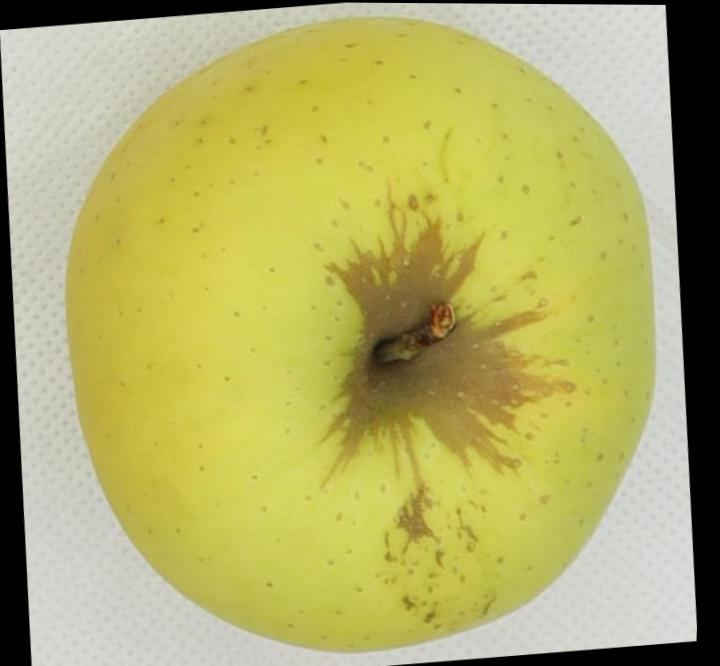apple: (67, 20, 651, 651)
bruise_discoloration: (323, 212, 575, 556)
